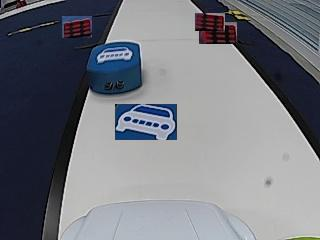safety: (96, 47, 134, 63)
